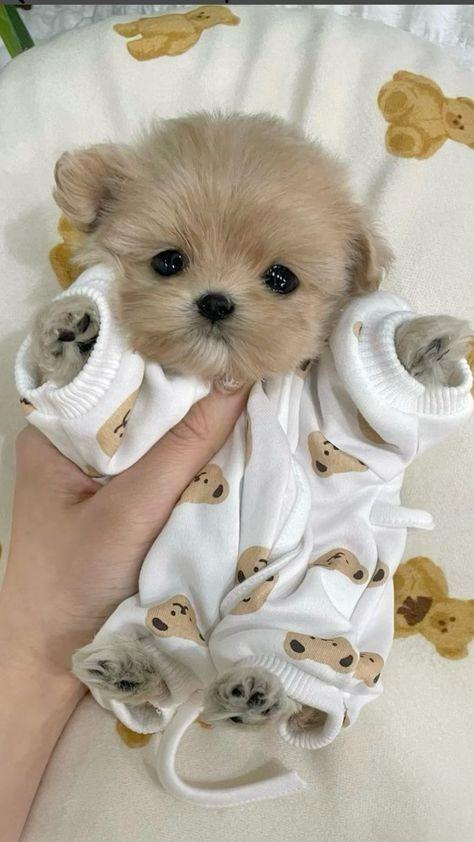puppy-dog: (11, 107, 474, 749)
